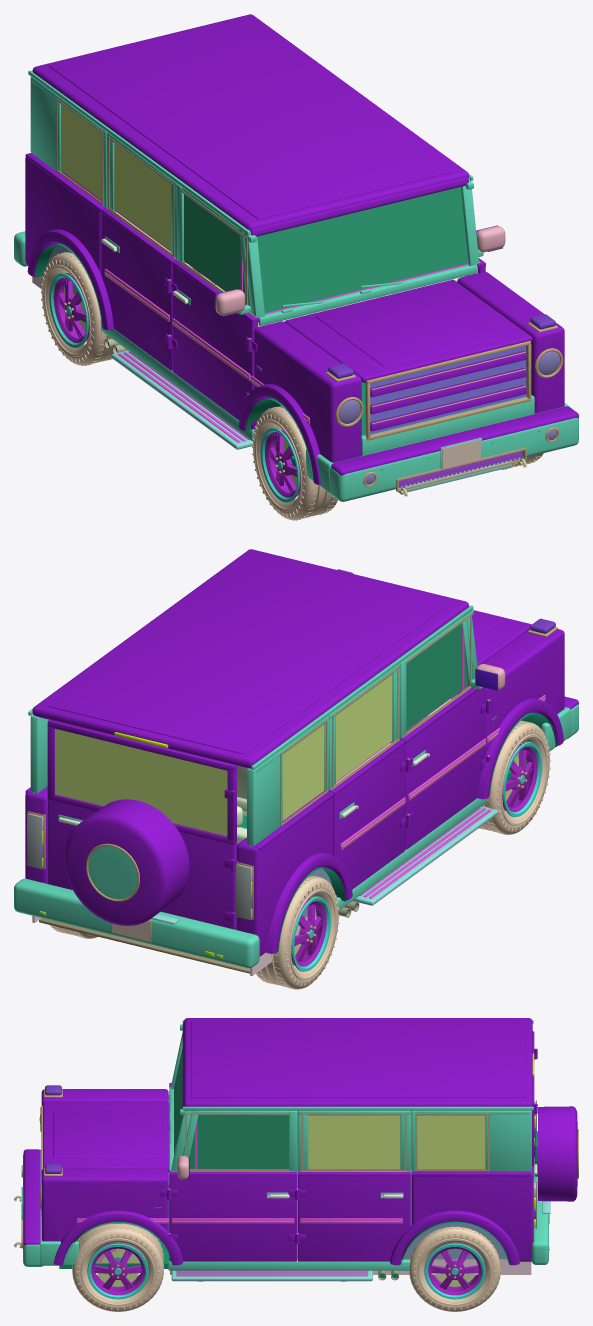
Rendered from gwagon.glb.
The picture shows the model from 3 angles, top to bottom: view 1: azimuth 30°, elevation 25°; view 2: azimuth 150°, elevation 25°; view 3: azimuth 270°, elevation 25°; orthographic projection. The views are drawn at different scales.
Visible parts, largest first — view 1: body_Paint, body_Trim, body_Windscreen, door_R_Paint, body_Glass, body_Chrome, body_Grille, door_R_Windscreen, wheel_FR_tire, wheel_BR_tire, body_Rubber, body_Step (+13 smaller); view 2: body_Paint, body_Glass, body_Trim, spare_Paint, door_R_Paint, door_R_Windscreen, wheel_BR_tire, wheel_FR_tire, body_Rubber, body_Chrome, spare_Trim, body_Step (+10 smaller); view 3: body_Paint, body_Trim, door_L_Paint, body_Glass, door_L_Windscreen, wheel_FL_tire, spare_Paint, wheel_BL_tire, body_Rubber, body_Chrome, body_Step, wheel_FL_rim (+11 smaller).
Boxes of the visible parts, x1,y1,x2,y2 form: body_Paint: (25,14,578,484); body_Trim: (14,70,578,501); body_Windscreen: (257,187,468,312); door_R_Paint: (172,260,259,429); body_Glass: (61,104,170,250); body_Chrome: (56,98,563,491); body_Grille: (370,346,526,483); door_R_Windscreen: (184,194,245,304); wheel_FR_tire: (252,406,337,520); wheel_BR_tire: (41,252,113,365); body_Rubber: (61,171,468,442); body_Step: (111,350,511,492); body_Paint: (25,549,578,956); body_Glass: (55,674,392,835); body_Trim: (14,605,578,968); spare_Paint: (64,799,189,925); door_R_Paint: (400,687,485,849); door_R_Windscreen: (406,624,467,730); wheel_BR_tire: (256,876,339,989); wheel_FR_tire: (479,720,550,834); body_Rubber: (55,695,545,898); body_Chrome: (27,627,557,942); spare_Trim: (88,846,137,899); body_Step: (151,806,497,924); body_Paint: (23,1018,537,1265); body_Trim: (22,1020,548,1270); door_L_Paint: (169,1171,296,1261); body_Glass: (308,1115,485,1168); door_L_Windscreen: (189,1115,288,1168); wheel_FL_tire: (72,1223,163,1311); spare_Paint: (538,1106,577,1201); wheel_BL_tire: (409,1226,500,1311); body_Rubber: (76,1169,485,1276); body_Chrome: (21,1089,549,1248); body_Step: (171,1201,550,1281); wheel_FL_rim: (91,1243,144,1295).
Bounding box in the file's own units: 2.26 × 1.96 × 4.85.
